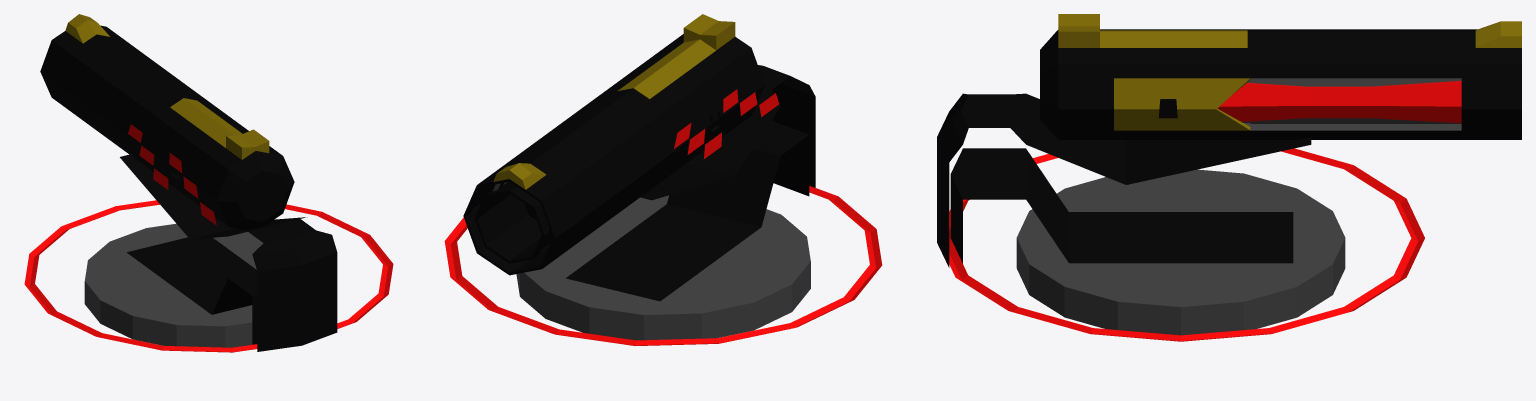
File: Artilery.fbx
The picture shows the model from 3 angles, left to right: view 1: azimuth 30°, elevation 25°; view 2: azimuth 150°, elevation 25°; view 3: azimuth 270°, elevation 25°; orthographic projection. The views are drawn at different scales.
Visible parts, largest first — view 1: TurretBarrel, ArtileryTurret, ArtileryBase; view 2: TurretBarrel, ArtileryBase, ArtileryTurret; view 3: TurretBarrel, ArtileryBase, ArtileryTurret.
Boxes of the visible parts, bbox=[...] form: TurretBarrel: bbox=[40, 14, 294, 229]; ArtileryTurret: bbox=[120, 124, 337, 351]; ArtileryBase: bbox=[24, 200, 393, 352]; TurretBarrel: bbox=[463, 14, 764, 275]; ArtileryBase: bbox=[444, 186, 882, 345]; ArtileryTurret: bbox=[566, 65, 815, 301]; TurretBarrel: bbox=[1040, 14, 1521, 139]; ArtileryBase: bbox=[942, 148, 1424, 341]; ArtileryTurret: bbox=[937, 93, 1311, 267].
Size of the model in its own units: 200 by 110 by 232.
